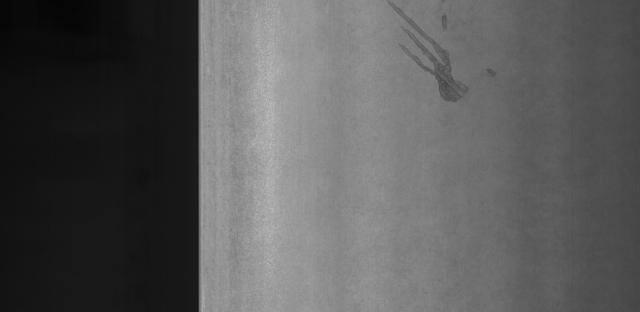water_spot: (368, 0, 504, 117)
